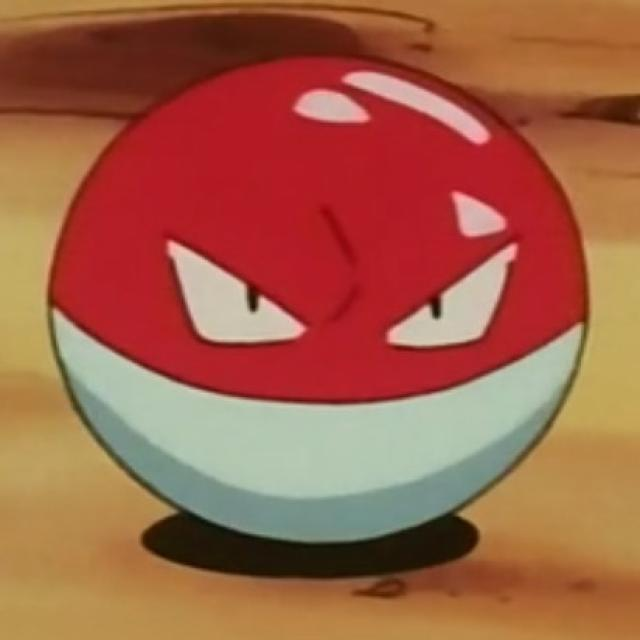Voltorb: (44, 54, 592, 536)
